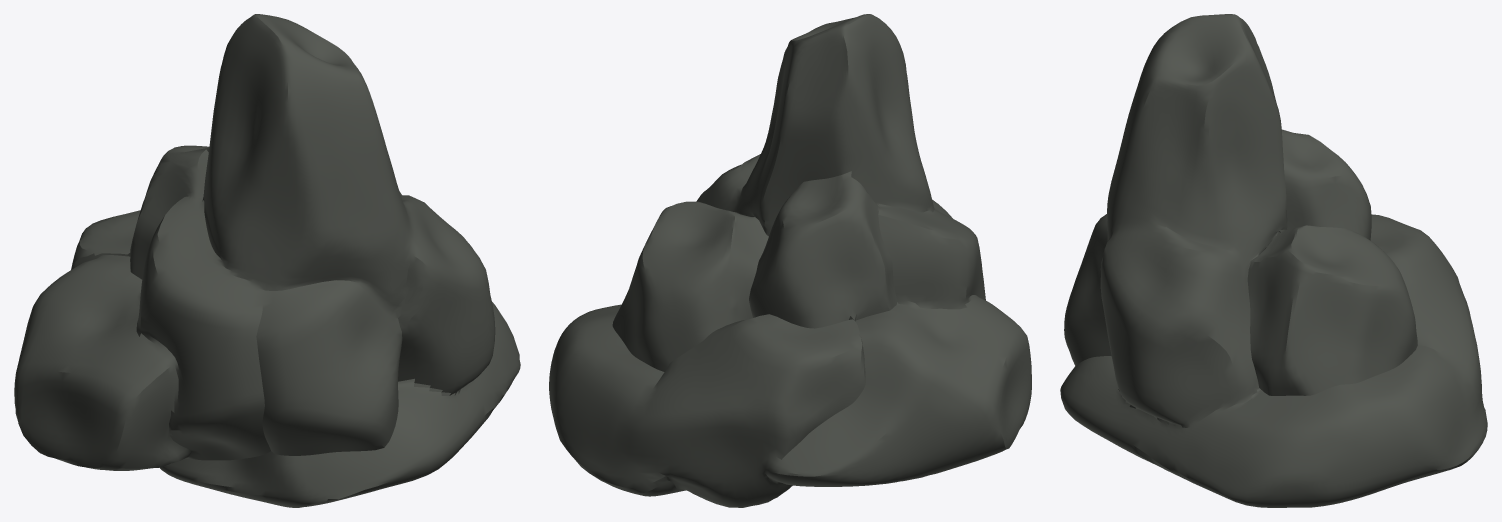
The model's file is quaternius-pirate-cliff-3.glb.
3 renders of one model, left to right at view 1: azimuth 30°, elevation 25°; view 2: azimuth 150°, elevation 25°; view 3: azimuth 270°, elevation 25°, orthographic. The views are drawn at different scales.
Parts seen in each view (by area): view 1: Environment_Cliff3; view 2: Environment_Cliff3; view 3: Environment_Cliff3.
Boxes of the visible parts, left/top/right/bottom form: Environment_Cliff3: left=14, top=14, right=520, bottom=507; Environment_Cliff3: left=549, top=14, right=1031, bottom=507; Environment_Cliff3: left=1060, top=14, right=1487, bottom=507.
Bounding box in the file's own units: 6.86 × 6.17 × 5.95.
Materials: 1 (1 with a texture image).
